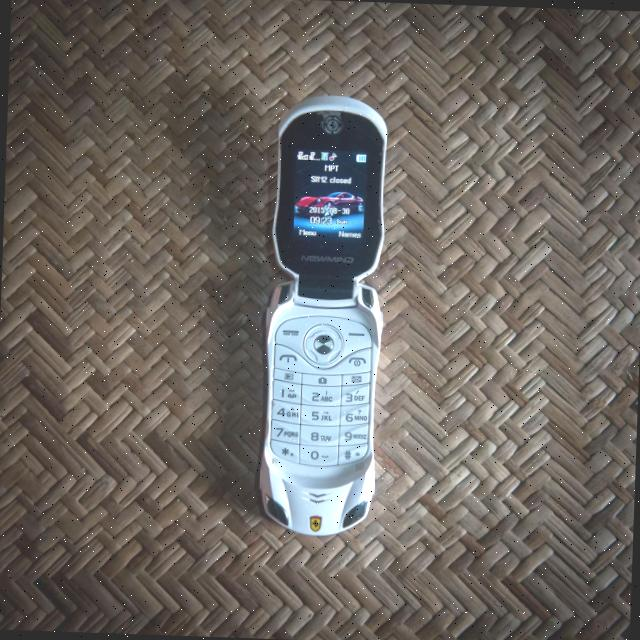Phone: (256, 96, 392, 535)
